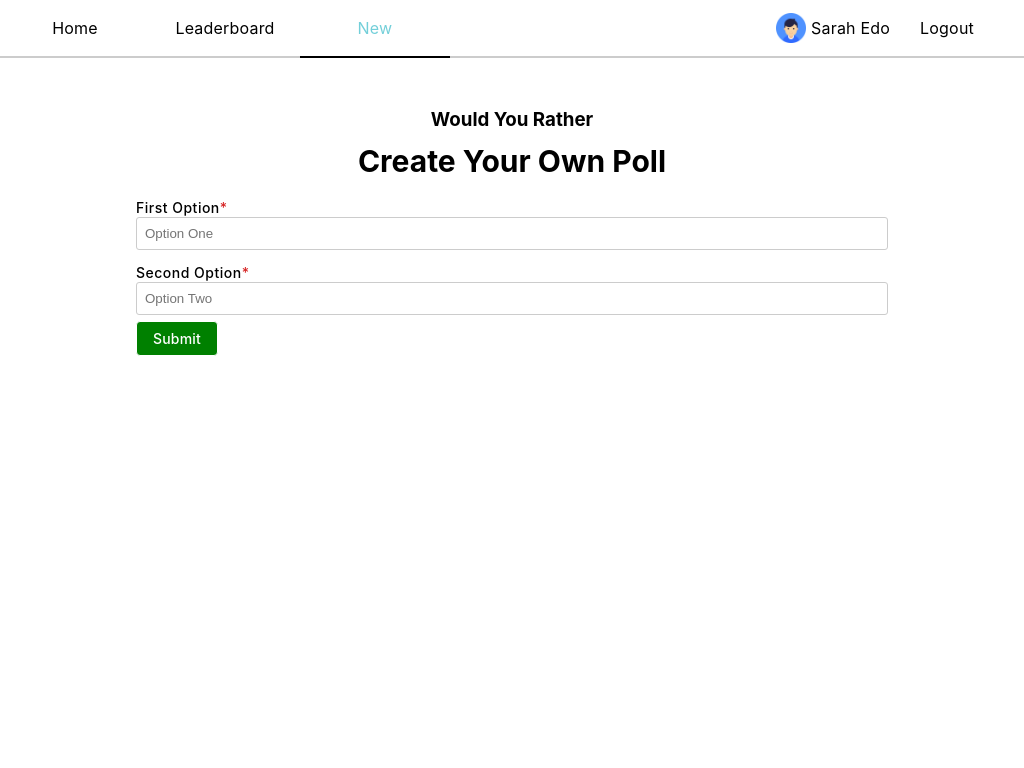
it: App component › should show login page when user is login and click logout
The image size is (1024, 768).
Step 1. Click the button "Logout" → click(947, 28), box x1=920 y1=18 x2=974 y2=38
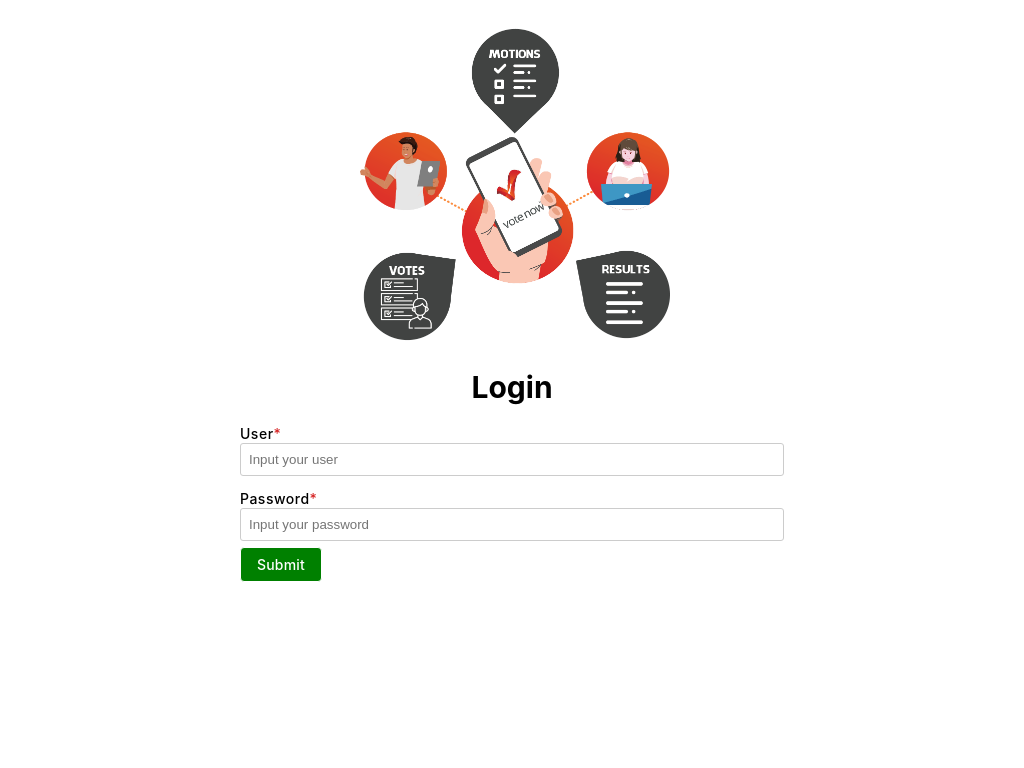
Expected: the heading "Login" is shown, x1=471 y1=369 x2=552 y2=405
